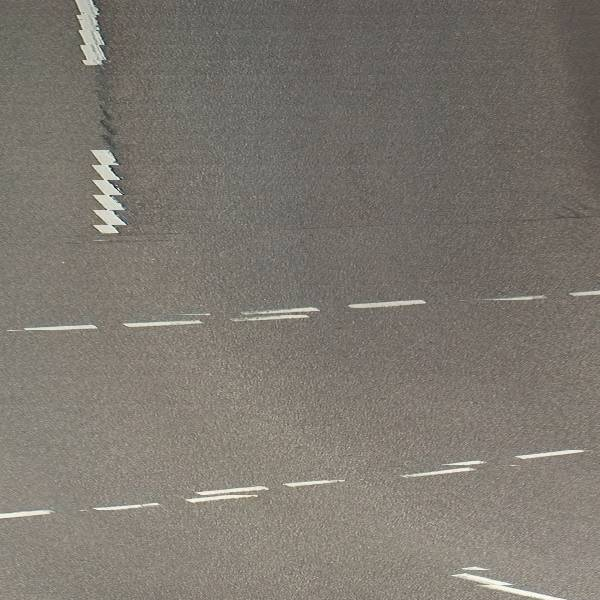road_damage: (92, 102, 126, 150), (537, 201, 600, 221)
